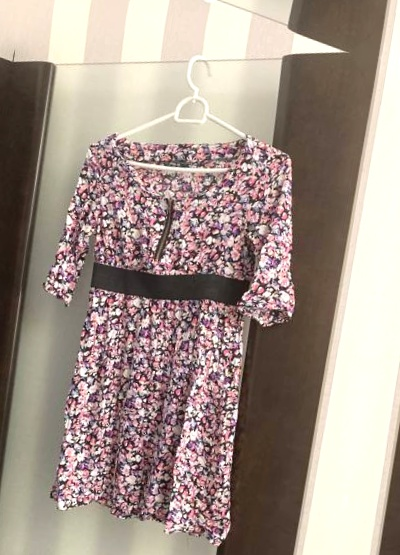Dress: (0, 111, 342, 552), (394, 177, 400, 555)
